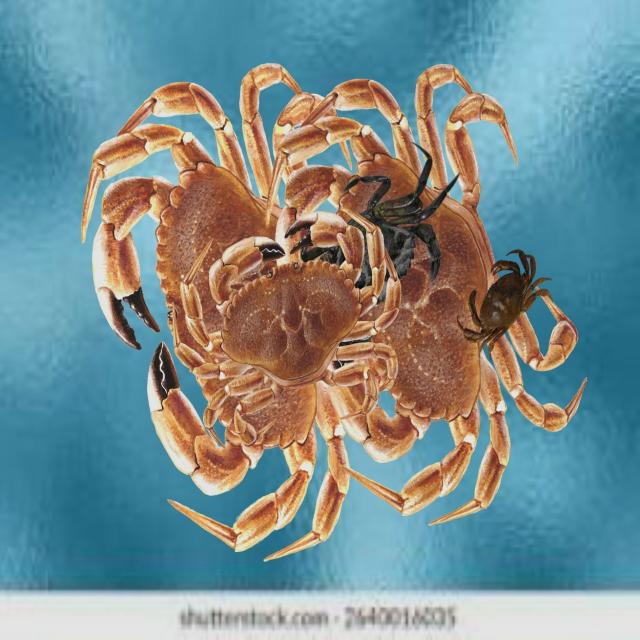European_Green_Crab: (258, 116, 493, 379)
